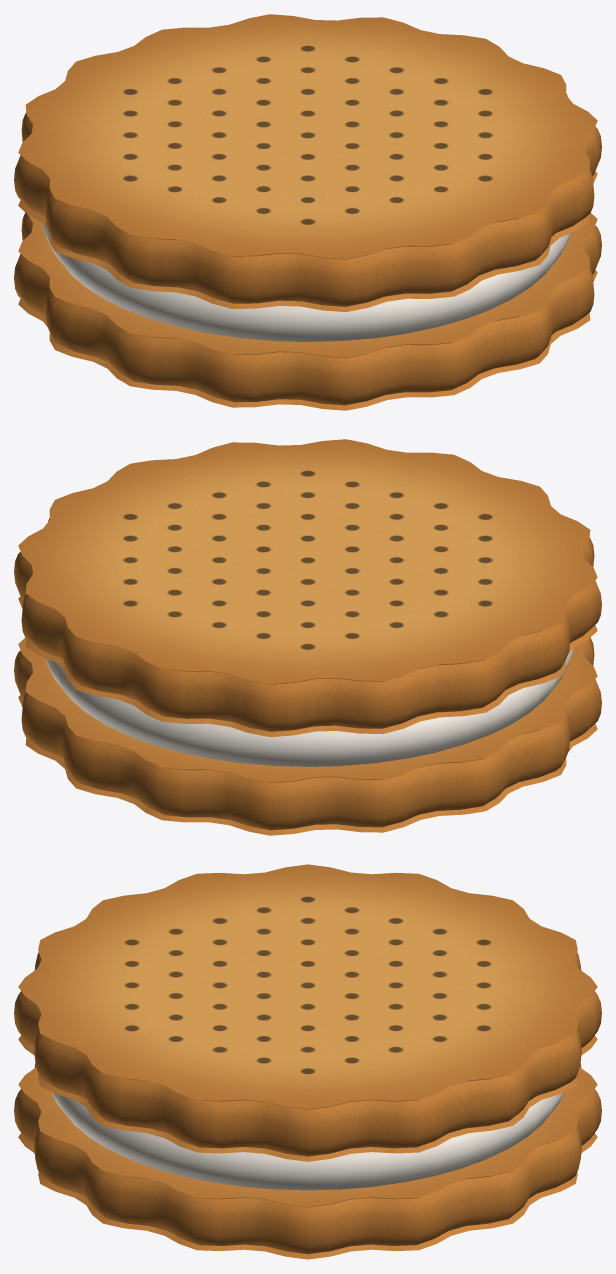
The model's file is biscuit_platform.glb.
The picture shows the model from 3 angles, top to bottom: view 1: azimuth 30°, elevation 25°; view 2: azimuth 150°, elevation 25°; view 3: azimuth 270°, elevation 25°; orthographic projection.
Parts seen in each view (by area): view 1: biscuit_platform; view 2: biscuit_platform; view 3: biscuit_platform.
Boxes of the visible parts, x1,y1,x2,y2 form: biscuit_platform: [14, 14, 601, 410]; biscuit_platform: [14, 439, 601, 835]; biscuit_platform: [14, 864, 601, 1259].
Size of the model in its own units: 2.5 by 0.7198 by 2.5.
2 materials, 1 textured.
